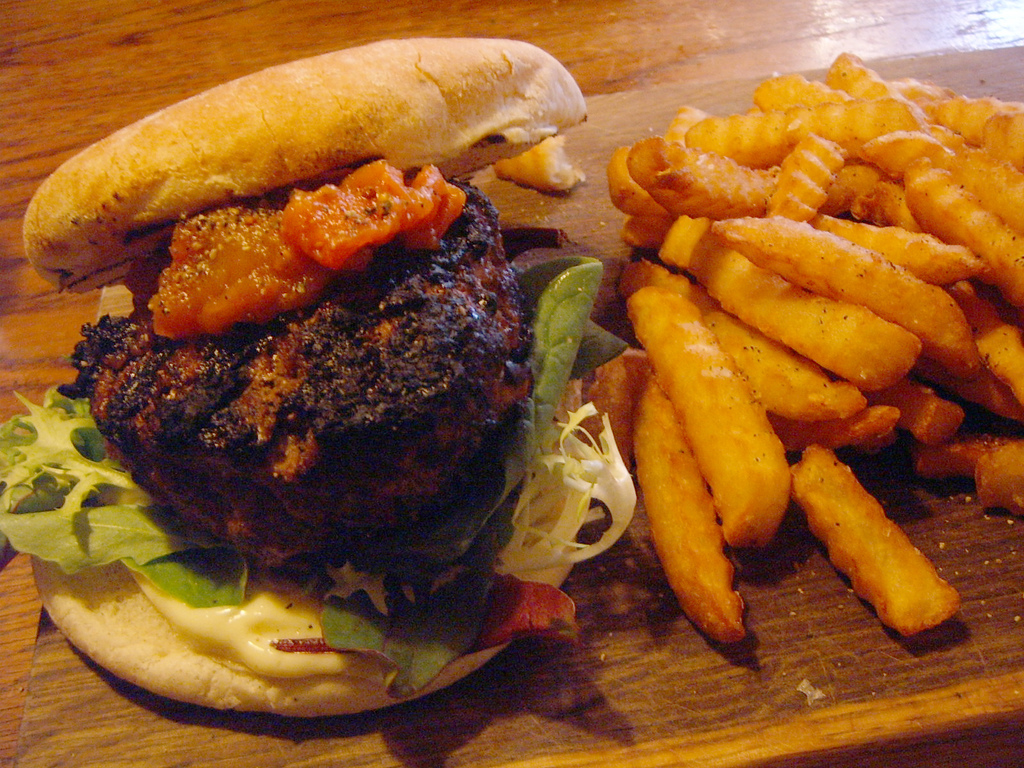French fries: (590, 9, 991, 669)
